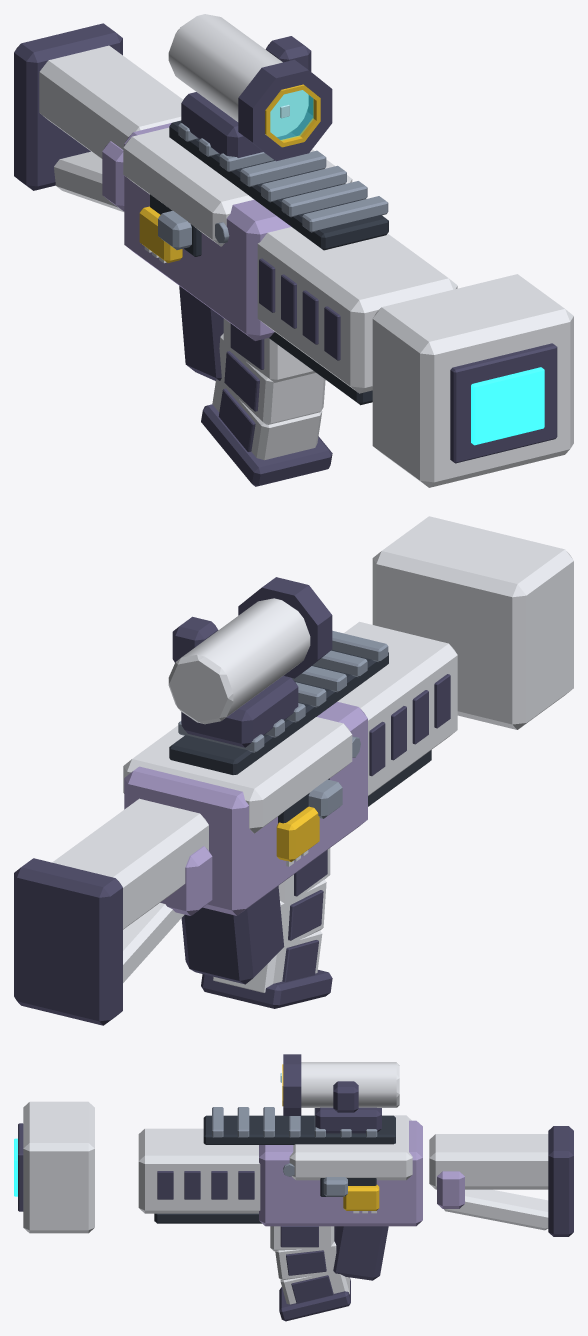
Rendered from Future_Rifle_v003.fbx.
3 views of the same model, one above another, from view 1: azimuth 30°, elevation 25°; view 2: azimuth 150°, elevation 25°; view 3: azimuth 270°, elevation 25° (orthographic). The views are drawn at different scales.
Parts seen in each view (by area): view 1: Future_Rifle__RECEIVER_MESH, Future_Rifle__MAGAZINE_MESH; view 2: Future_Rifle__RECEIVER_MESH, Future_Rifle__MAGAZINE_MESH; view 3: Future_Rifle__RECEIVER_MESH, Future_Rifle__MAGAZINE_MESH.
Boxes of the visible parts, box(x1,y1,x2,y2) form: Future_Rifle__RECEIVER_MESH: box(14, 14, 573, 487); Future_Rifle__MAGAZINE_MESH: box(201, 318, 332, 486); Future_Rifle__RECEIVER_MESH: box(14, 516, 573, 1025); Future_Rifle__MAGAZINE_MESH: box(201, 848, 332, 1008); Future_Rifle__RECEIVER_MESH: box(14, 1054, 573, 1280); Future_Rifle__MAGAZINE_MESH: box(270, 1226, 350, 1321).
Bounding box in the file's own units: 0.475 × 1.08 × 2.19.
